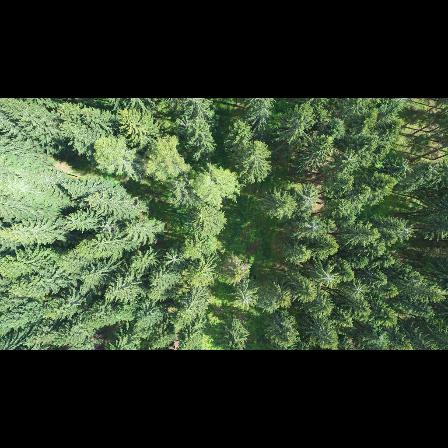Sick: (234, 284, 258, 312), (295, 184, 319, 209), (390, 220, 416, 243), (298, 217, 322, 241), (159, 250, 186, 270), (315, 271, 340, 292), (348, 280, 368, 301)
